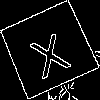X: (24, 24, 72, 80)
